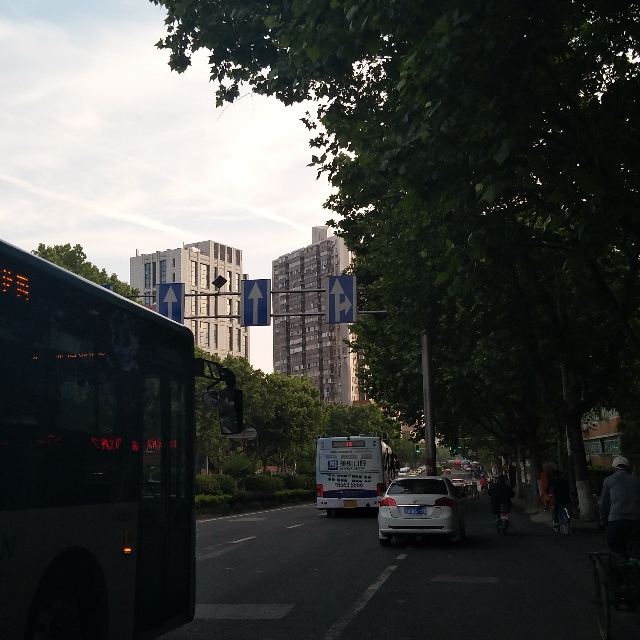left: (237, 277, 275, 330)
straight: (153, 283, 187, 329)
